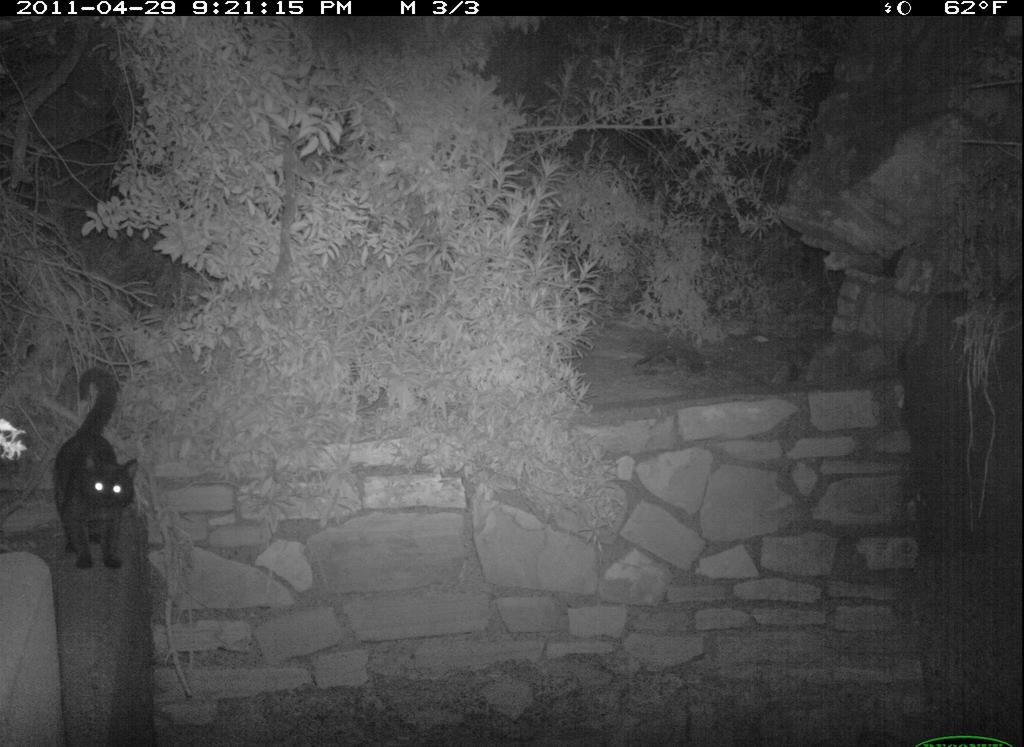cat: (48, 354, 145, 582)
